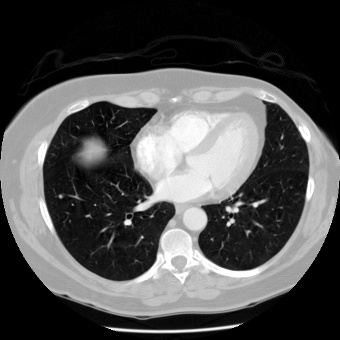PN: (58, 194, 62, 198)
